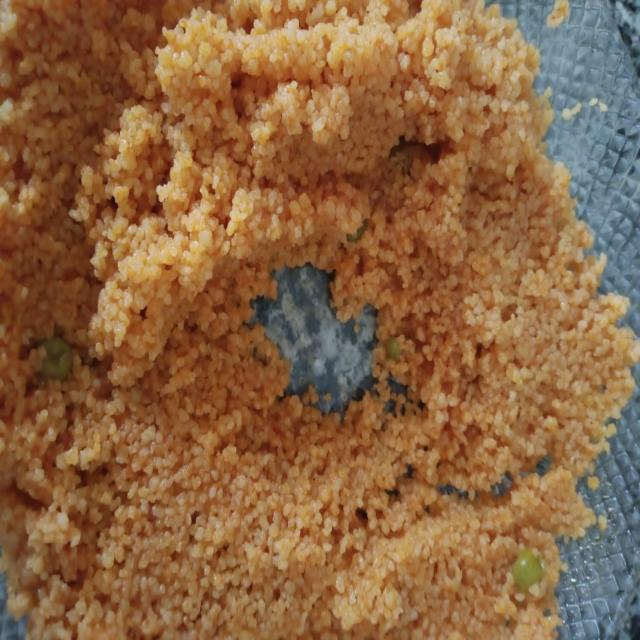Couscous: (0, 9, 620, 639)
